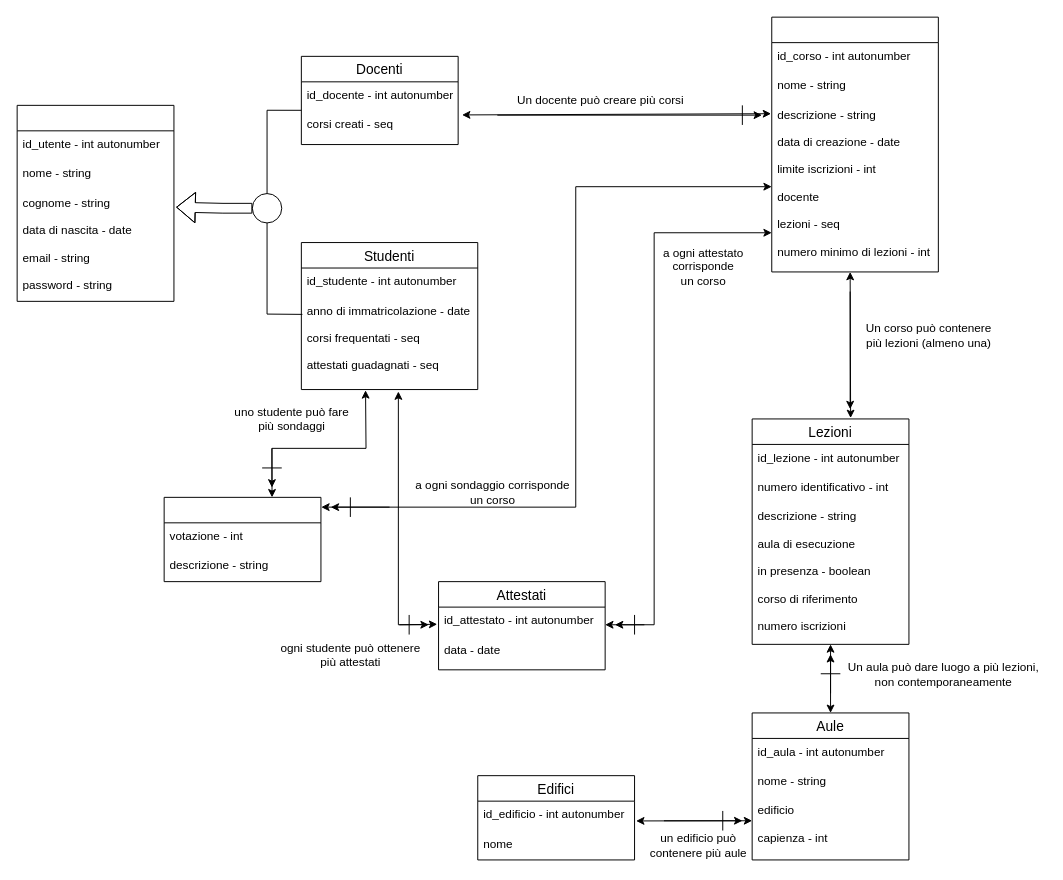
Some shapes in this 1063 by 880 pixel diagram are drawn without their labels. Here are the shapes that lost their labels. From the top down, the box of each, then its label:
(771, 16, 938, 272): Corsi
(16, 104, 174, 301): Utenti
(163, 496, 321, 582): Sondaggi
